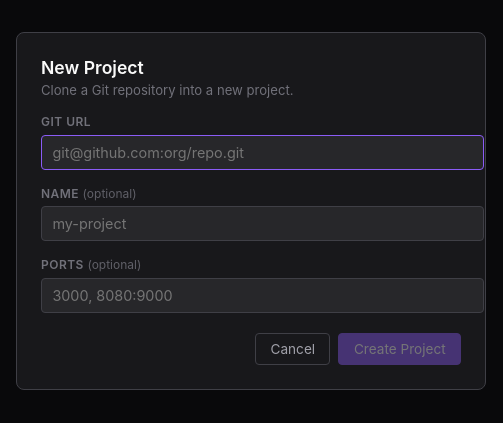
it: NewProjectWizard › shows error message when createProject rejects
Step 1. Type "git@github.com:org/alpha.git" into the field with placeholder "git@github.com:org/repo.git" → (262, 152), box [41,134,484,170]
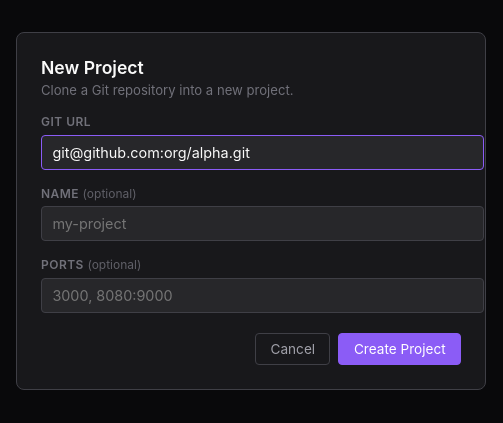
Step 2. Click the button "Create Project" → (400, 349), box [338,333,461,365]
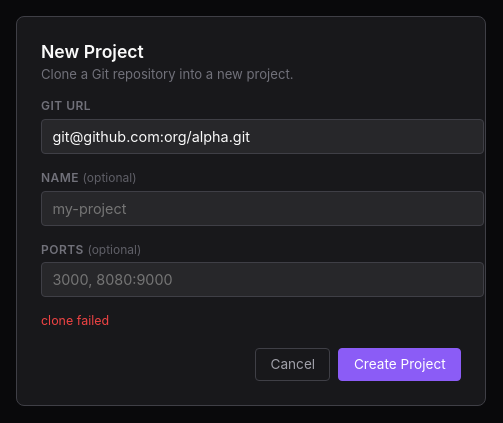
Expected: the text "clone failed" is shown, [41,313,109,328]
